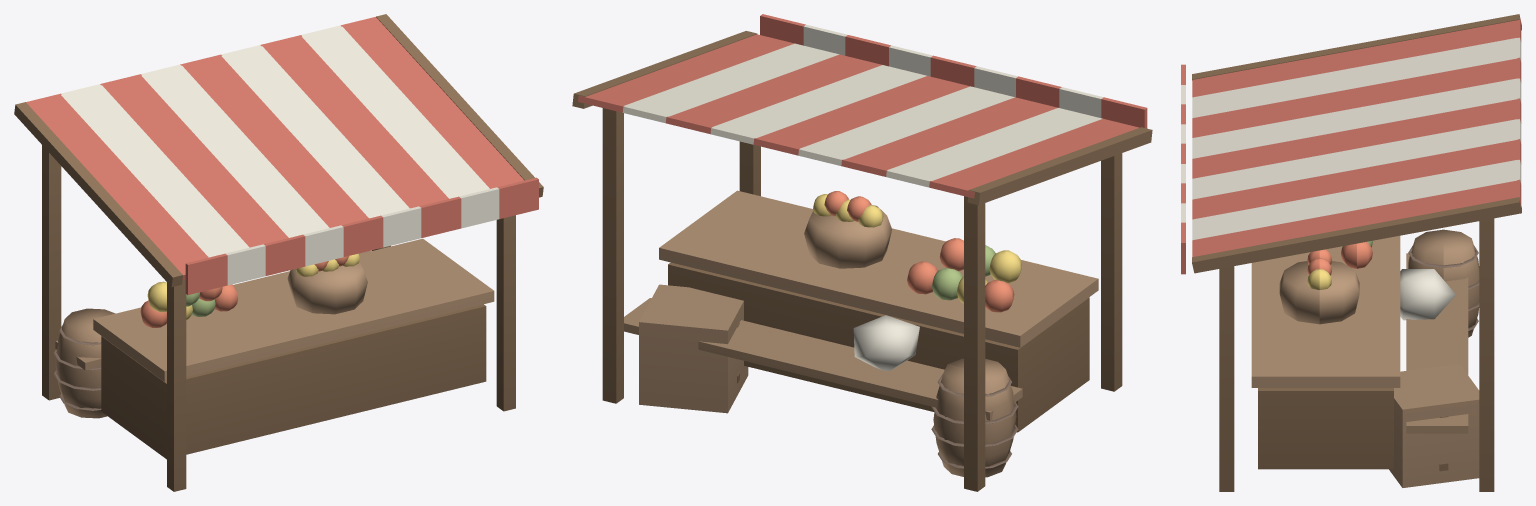
File: marktstand.glb
The picture shows the model from 3 angles, left to right: view 1: azimuth 30°, elevation 25°; view 2: azimuth 150°, elevation 25°; view 3: azimuth 270°, elevation 25°; orthographic projection. The views are drawn at different scales.
Visible parts, largest first — view 1: G_marktstand; view 2: G_marktstand; view 3: G_marktstand.
Part boxes in pixels (left/top/right/bottom): G_marktstand: left=14, top=14, right=543, bottom=491; G_marktstand: left=572, top=14, right=1152, bottom=491; G_marktstand: left=1181, top=14, right=1521, bottom=491.
Size of the model in its own units: 3.6 by 2.65 by 2.75.
